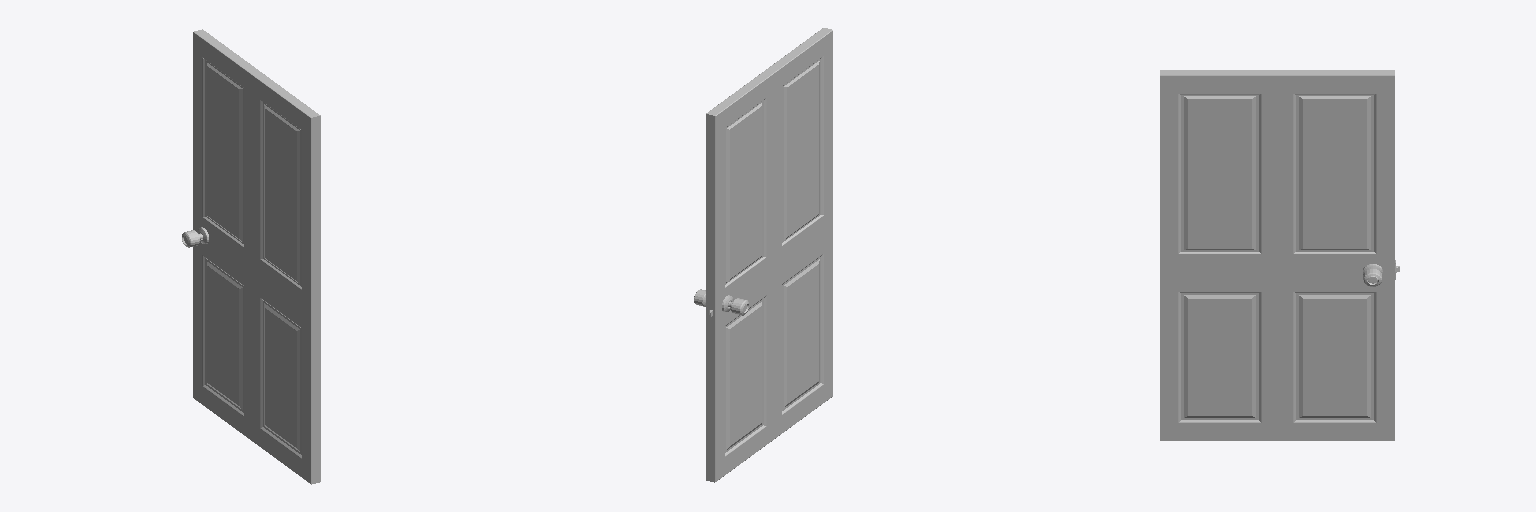
File: Door2.obj
3 views of the same model, side by side, from view 1: azimuth 30°, elevation 25°; view 2: azimuth 150°, elevation 25°; view 3: azimuth 270°, elevation 25° (orthographic).
Visible parts, largest first — view 1: pasted__Ctrl_Door_01DoorRig_01DoorLatch_01Ctrl_ManualLatch_01; view 2: pasted__Ctrl_Door_01DoorRig_01DoorLatch_01Ctrl_ManualLatch_01; view 3: pasted__Ctrl_Door_01DoorRig_01DoorLatch_01Ctrl_ManualLatch_01.
Part boxes in pixels (x1,y1,x2,y2): pasted__Ctrl_Door_01DoorRig_01DoorLatch_01Ctrl_ManualLatch_01: (182,29,320,484); pasted__Ctrl_Door_01DoorRig_01DoorLatch_01Ctrl_ManualLatch_01: (694,28,832,482); pasted__Ctrl_Door_01DoorRig_01DoorLatch_01Ctrl_ManualLatch_01: (1160,70,1399,440).
Size of the model in its own units: 1.01 by 7.25 by 4.32.